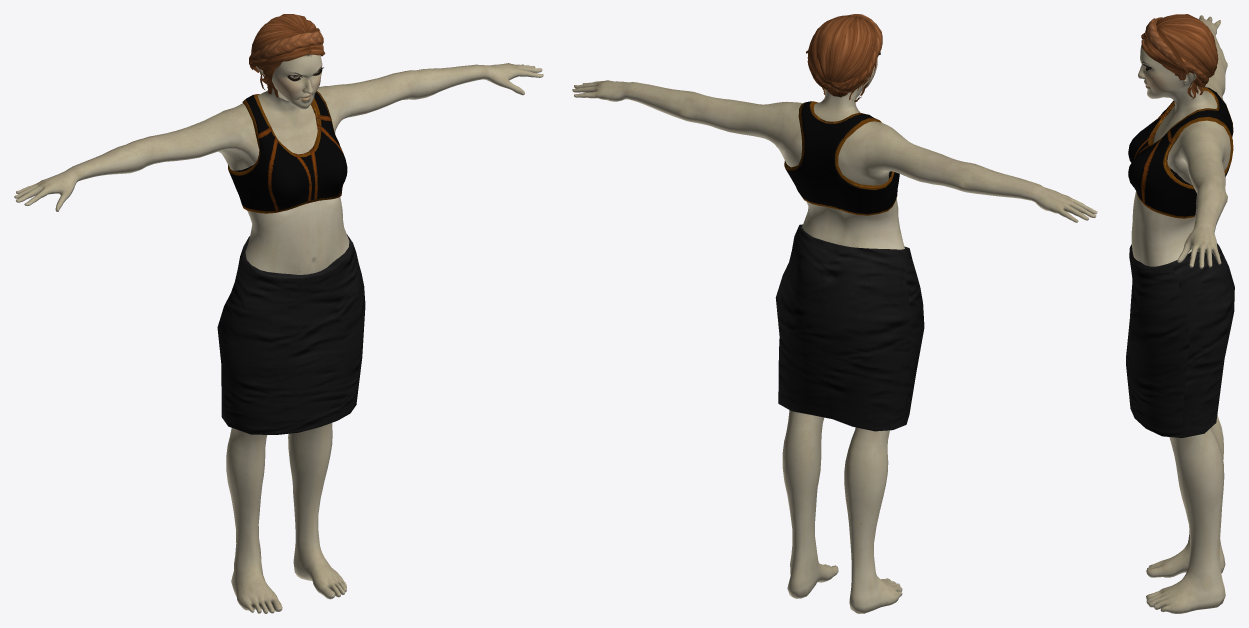
The model's file is Angel.obj.
3 renders of one model, left to right at view 1: azimuth 30°, elevation 25°; view 2: azimuth 150°, elevation 25°; view 3: azimuth 270°, elevation 25°, orthographic.
Visible parts, largest first — view 1: Body, Bottoms, Tops, Hair; view 2: Body, Bottoms, Tops, Hair; view 3: Body, Bottoms, Tops, Hair.
Boxes of the visible parts, bbox=[...] form: Body: bbox=[14, 54, 543, 613]; Bottoms: bbox=[217, 234, 365, 434]; Tops: bbox=[228, 91, 347, 213]; Hair: bbox=[249, 14, 325, 97]; Body: bbox=[572, 58, 1097, 613]; Bottoms: bbox=[775, 224, 924, 431]; Tops: bbox=[784, 101, 899, 215]; Hair: bbox=[806, 14, 882, 102]; Body: bbox=[1131, 15, 1230, 613]; Bottoms: bbox=[1126, 243, 1234, 437]; Tops: bbox=[1128, 87, 1233, 218]; Hair: bbox=[1141, 14, 1218, 99].
Size of the model in its own units: 158 by 166 by 28.62.
4 materials, 4 textured.
